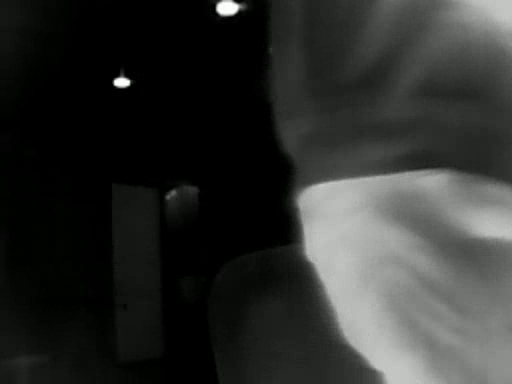chest: (295, 0, 512, 147)
